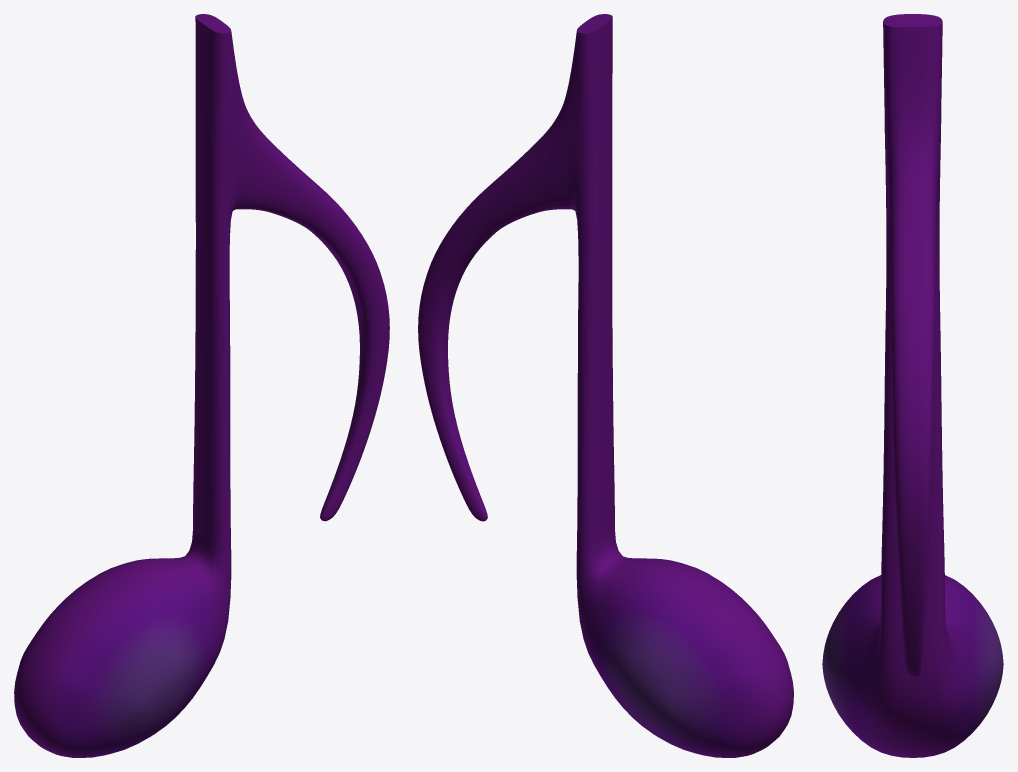
The model's file is BakedMusicalNote.gltf.
The picture shows the model from 3 angles, left to right: view 1: azimuth 30°, elevation 25°; view 2: azimuth 150°, elevation 25°; view 3: azimuth 270°, elevation 25°; orthographic projection. The views are drawn at different scales.
Parts seen in each view (by area): view 1: note_quaver; view 2: note_quaver; view 3: note_quaver.
Boxes of the visible parts, left/top/right/bottom form: note_quaver: left=14, top=14, right=389, bottom=757; note_quaver: left=418, top=14, right=793, bottom=757; note_quaver: left=822, top=14, right=1003, bottom=757.
Bounding box in the file's own units: 203 × 371 × 77.13.
1 material, 1 textured.
